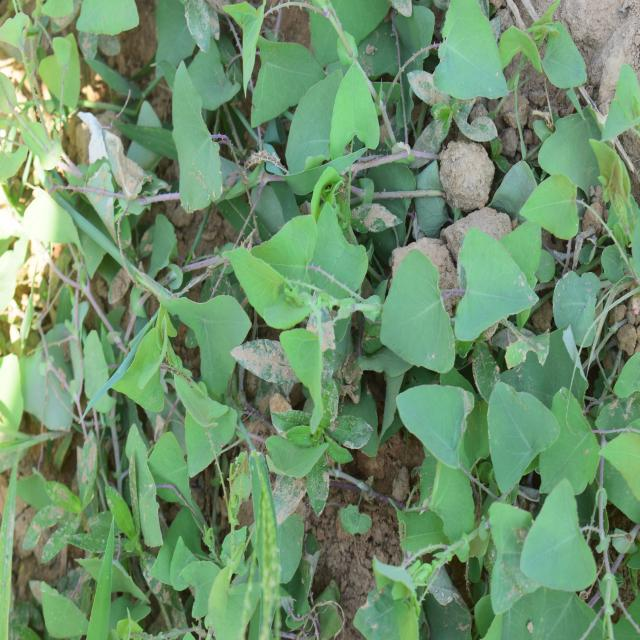Asiatic_Smartweed: (228, 0, 508, 162), (404, 369, 591, 606), (368, 240, 542, 407)
